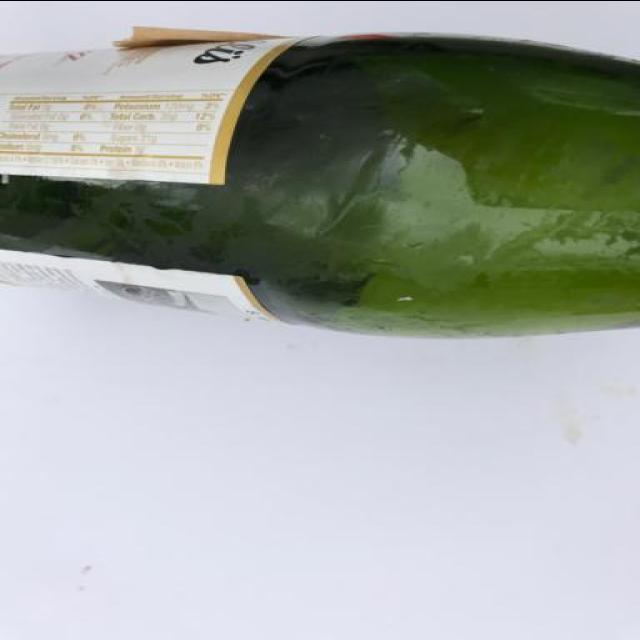Glass Bottle: (1, 33, 640, 342)
